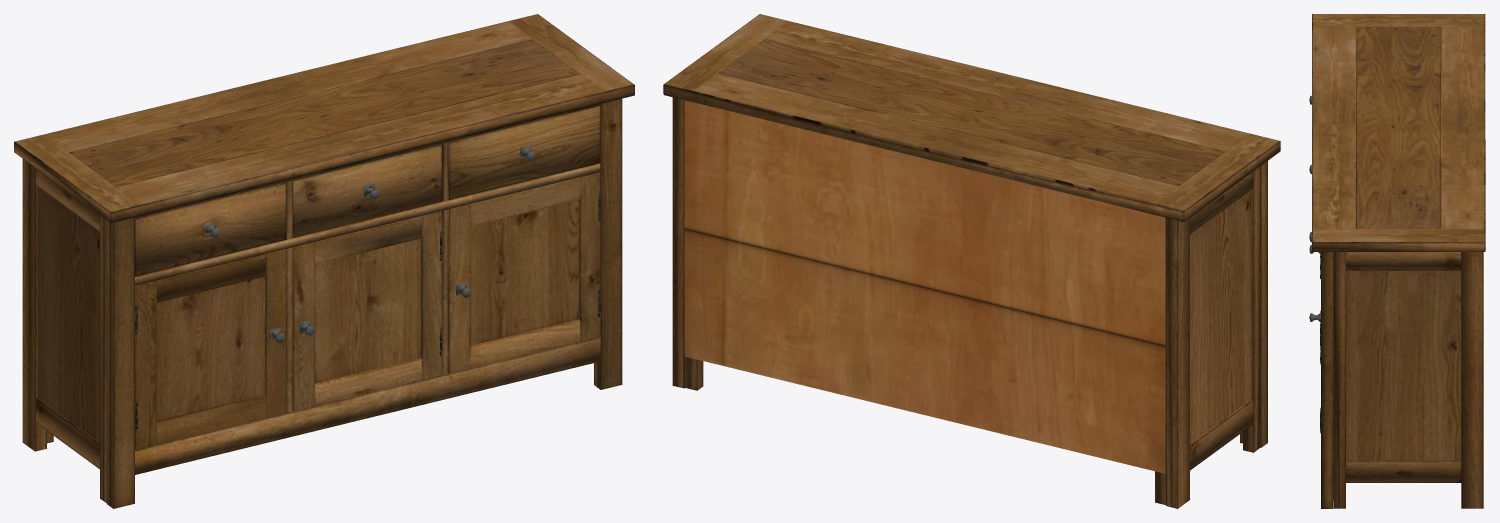
Rendered from abo-B075YQ8Q3T.glb.
3 renders of one model, left to right at view 1: azimuth 30°, elevation 25°; view 2: azimuth 150°, elevation 25°; view 3: azimuth 270°, elevation 25°, orthographic. The views are drawn at different scales.
Parts seen in each view (by area): view 1: RootNode; view 2: RootNode; view 3: RootNode.
Boxes of the visible parts, x1,y1,x2,y2 form: RootNode: [14, 14, 634, 508]; RootNode: [663, 14, 1280, 508]; RootNode: [1309, 14, 1485, 508].
Bounding box in the file's own units: 1.47 × 0.8115 × 0.4802.
Materials: 1 (1 with a texture image).
